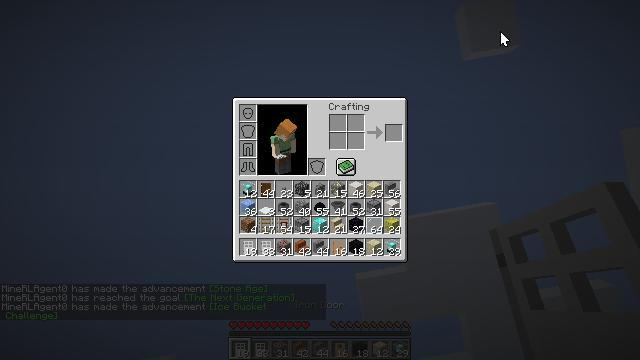cursor: (500, 31, 510, 47)
